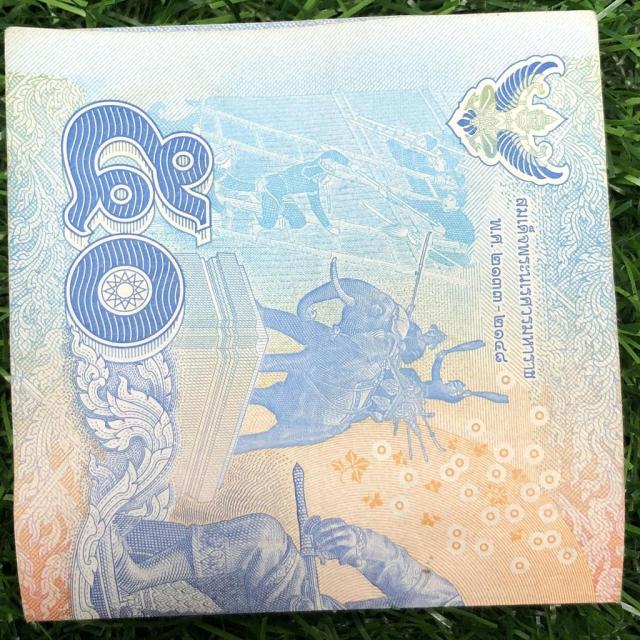THAI50: (5, 11, 624, 619)
